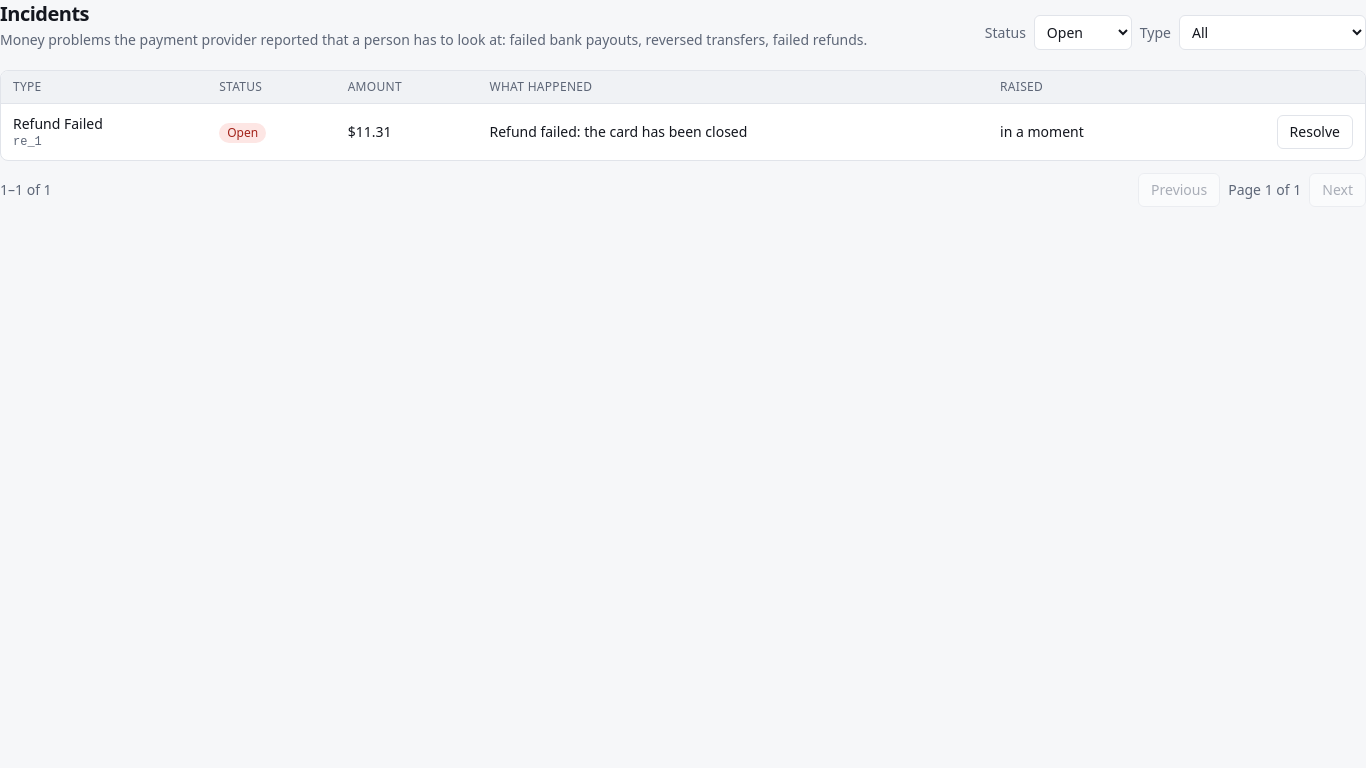
Incidents page › resolves with the note, then refreshes the list
The width and height of the screenshot is (1366, 768).
Click the button "Resolve".
click(1315, 132)  # box [1277,115,1353,149]
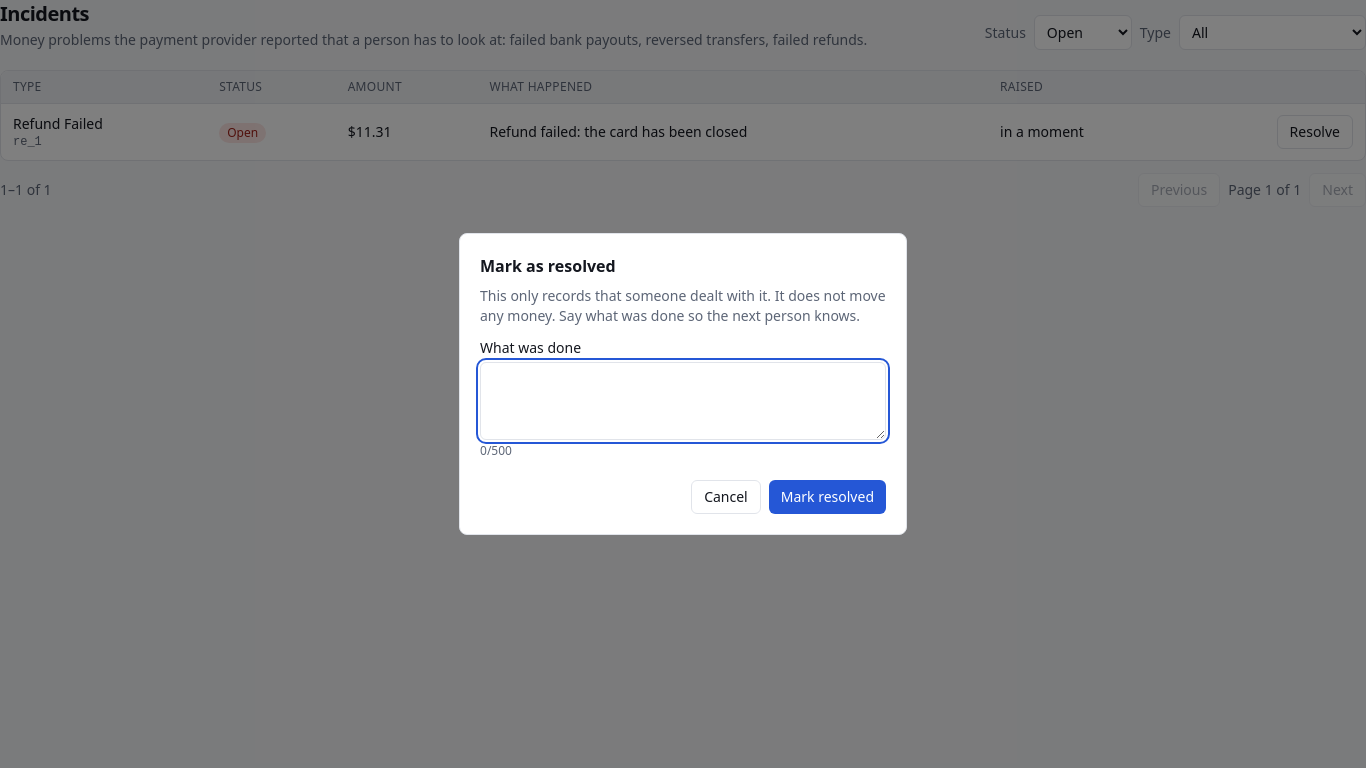
Type "Called the provider" into the text box.
click(683, 401); type("Called the provider")  # box [480,362,886,440]
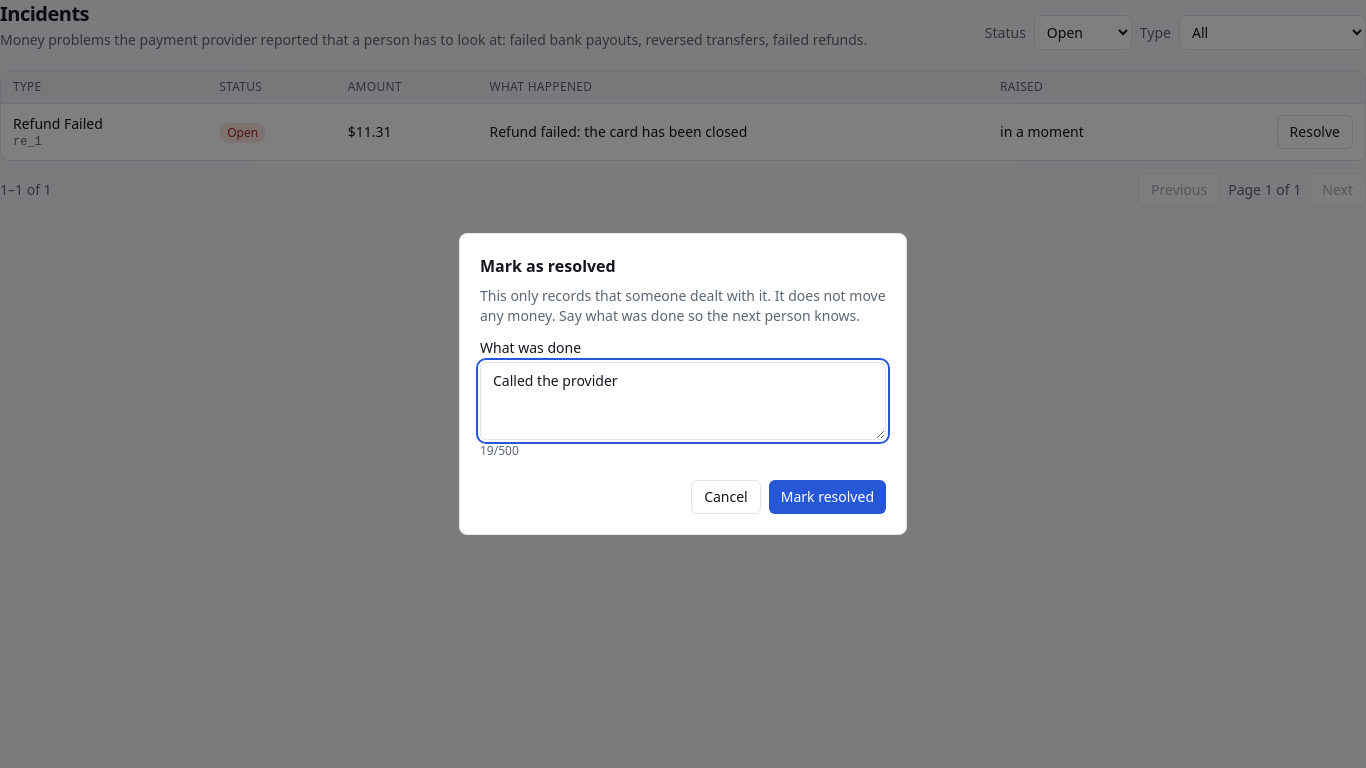
Click the button "Mark resolved".
click(827, 497)  # box [769,480,886,514]
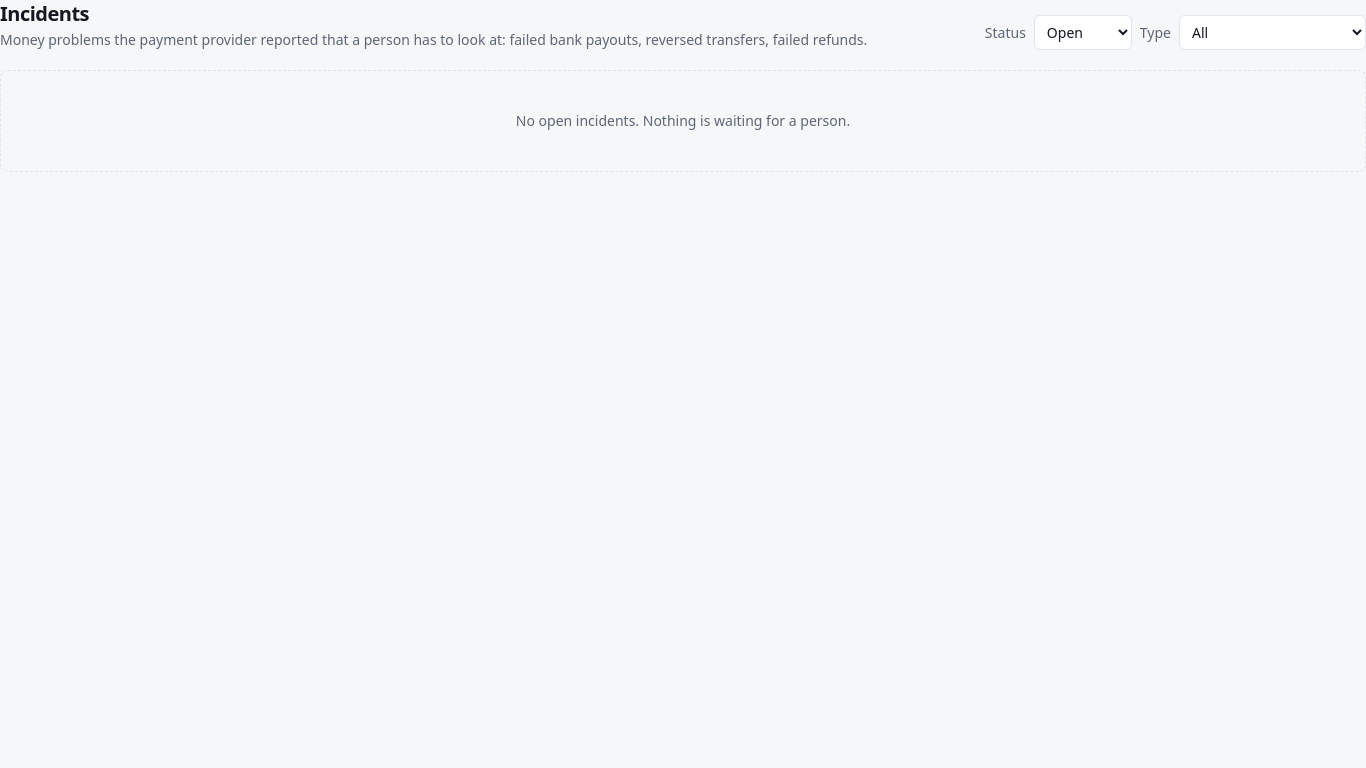
Expected: the text "No open incidents. Nothing is waiting for a person." is shown, [0,70,1365,172]
